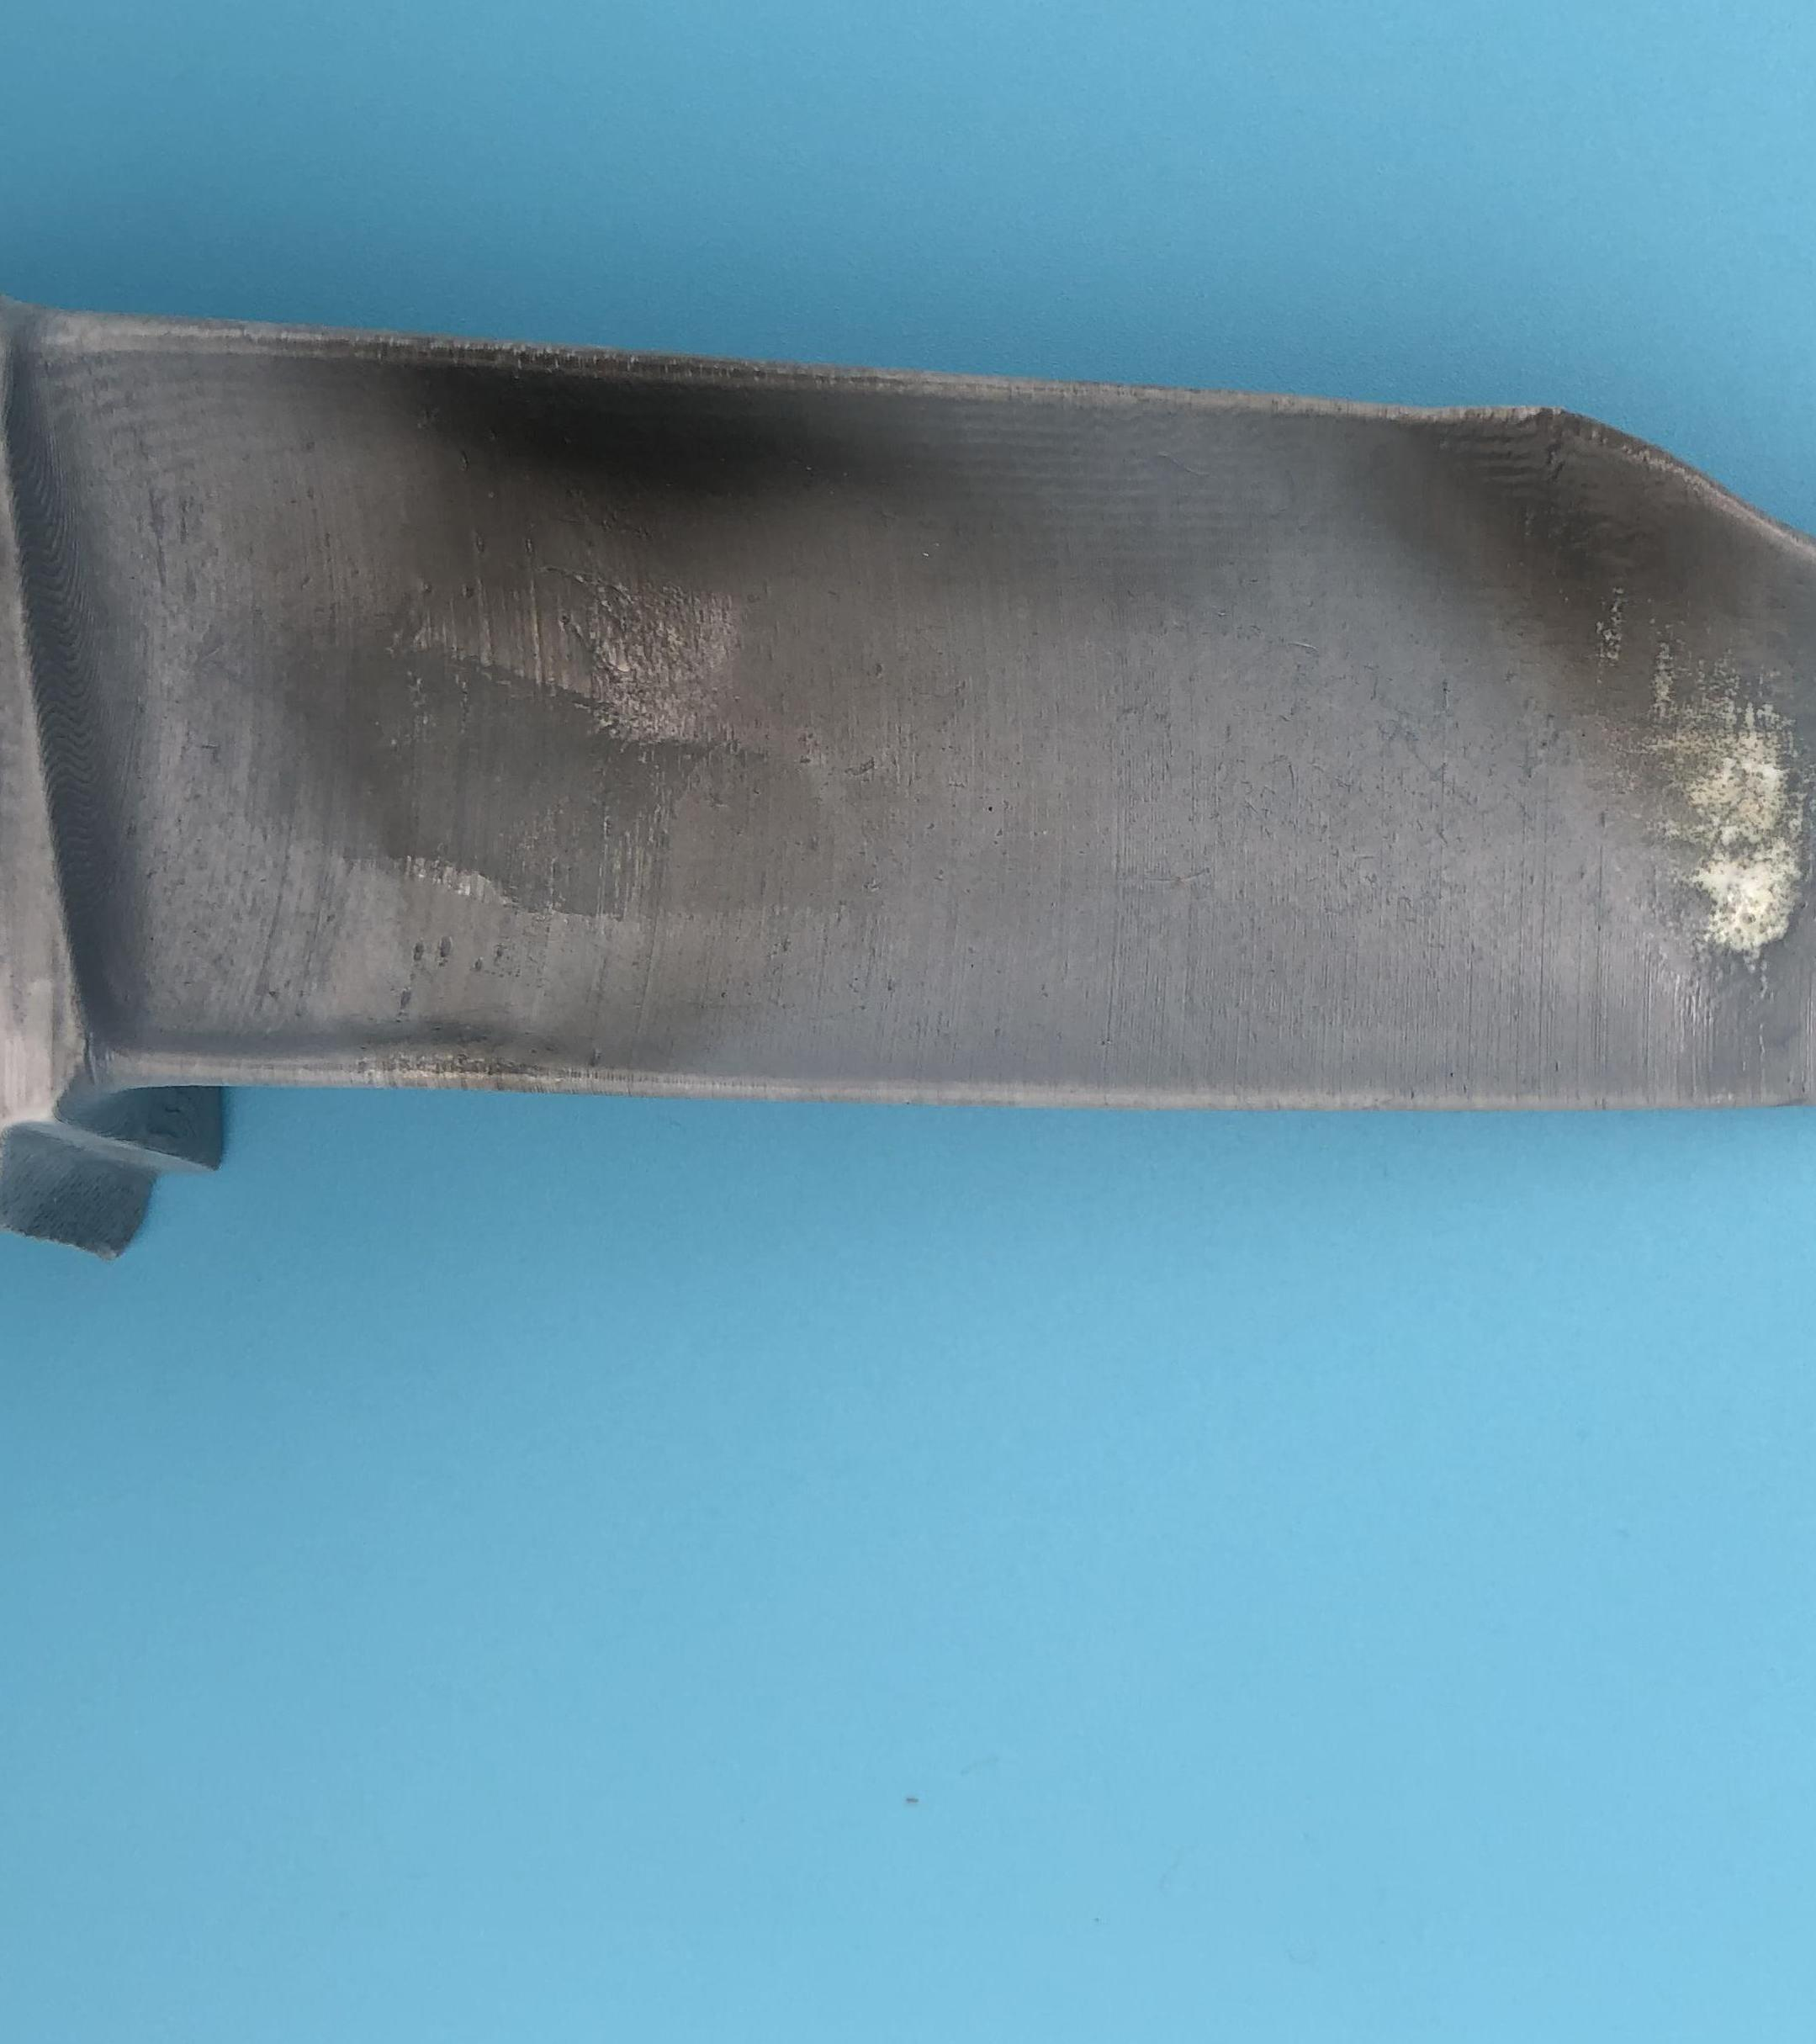ablation: (368, 361, 915, 892), (1515, 445, 1800, 973)
